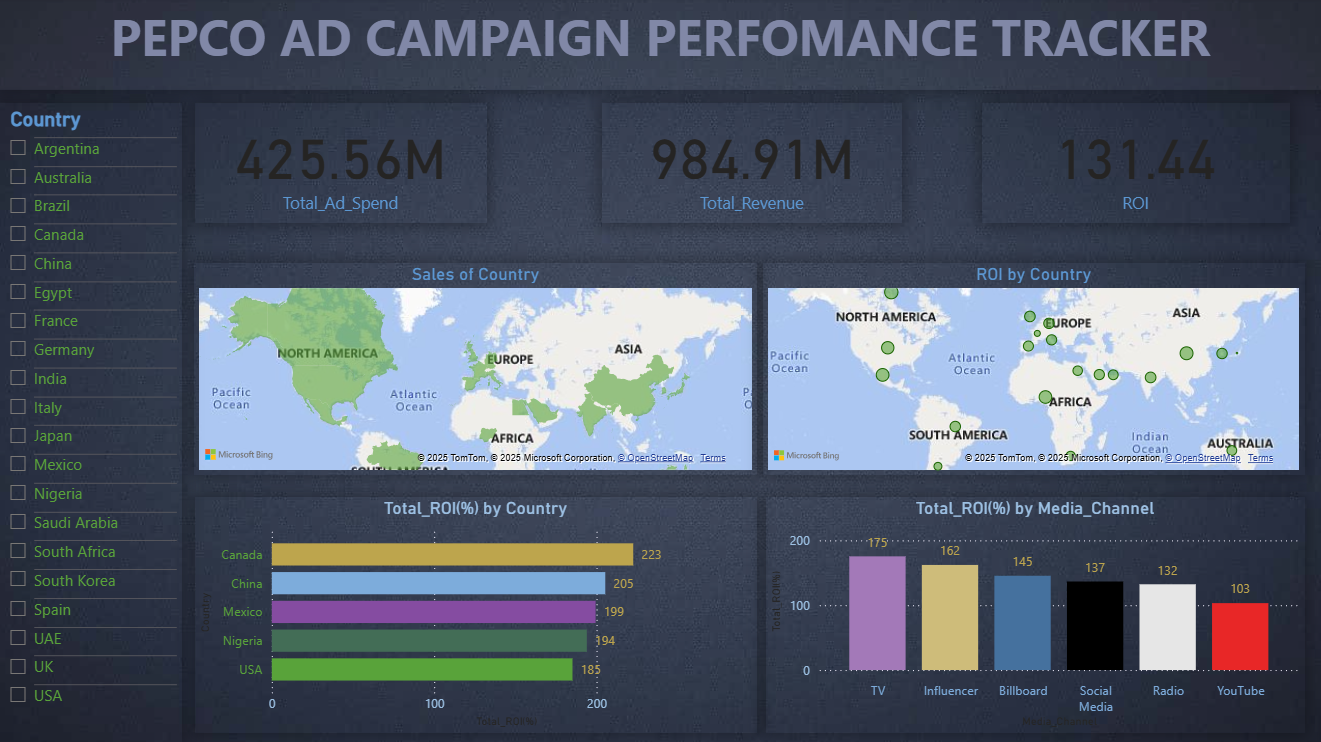

Layout of this report page (visuals, bound fields, positions):
{"tool":"powerbi","page":{"name":"Page 1","canvas":[1280,720],"ordinal":0},"visuals":[{"type":"card","fields":{"Values":["PEPCO.Total_Revenue"]},"box":[583.9,102.5,289.5,115.8],"z":2000},{"type":"card","fields":{"Values":["PEPCO.Total_Ad_Spend"]},"box":[190.6,102.5,282.3,115.8],"z":3000},{"type":"filledMap","title":"Sales of Country","fields":{"Category":["PEPCO.Country"]},"box":[190.6,257,542.9,203.9],"z":4000},{"type":"clusteredBarChart","fields":{"Category":["PEPCO.Country"],"Y":["PEPCO.Total_ROI(%)"]},"box":[190.6,482.6,542.9,228],"z":5000},{"type":"card","fields":{"Values":["PEPCO.New Total ROI(%)"]},"box":[950.7,102.5,296.8,115.8],"z":5500},{"type":"clusteredColumnChart","fields":{"Category":["PEPCO.Media_Channel"],"Y":["PEPCO.Total_ROI(%)"]},"box":[742,482.6,520,228],"z":6000},{"type":"map","title":"ROI by Country","fields":{"Category":["PEPCO.Country"],"Size":["PEPCO.Total_ROI(%)"]},"box":[739.5,257,522.4,205.1],"z":6001},{"type":"slicer","fields":{"Values":["PEPCO.Country"]},"box":[0,102.5,178.6,617.7],"z":6002},{"type":"textbox","box":[0,0,1280,89.3],"z":6003}]}

Visuals, with their boxes in screenshot pixels (x1, y1, x2, y2), scaled from the page's 1280x720 canvas onto the 1321x742 screenshot:
card - PEPCO.Total_Revenue: left=603, top=106, right=901, bottom=225
card - PEPCO.Total_Ad_Spend: left=197, top=106, right=488, bottom=225
"Sales of Country" filledMap: left=197, top=265, right=757, bottom=475
clusteredBarChart - PEPCO.Country x PEPCO.Total_ROI(%): left=197, top=497, right=757, bottom=732
card - PEPCO.New Total ROI(%): left=981, top=106, right=1287, bottom=225
clusteredColumnChart - PEPCO.Media_Channel x PEPCO.Total_ROI(%): left=766, top=497, right=1302, bottom=732
"ROI by Country" map: left=763, top=265, right=1302, bottom=476
slicer - PEPCO.Country: left=0, top=106, right=184, bottom=741
textbox: left=0, top=0, right=1320, bottom=92
